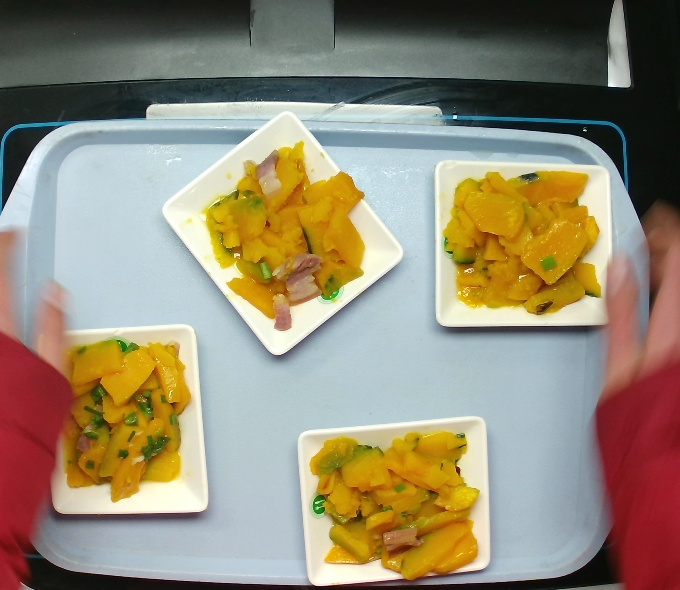wcq-NanGuaChaoLaRou: (201, 137, 371, 337), (306, 427, 486, 583), (440, 165, 607, 321), (58, 335, 196, 503)
